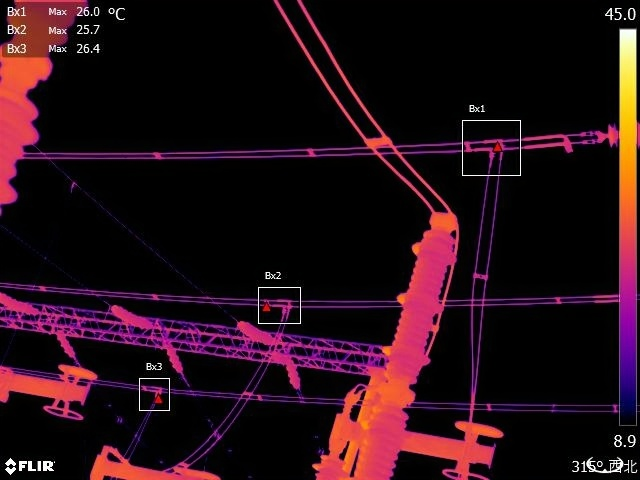clamp: (478, 135, 508, 168), (139, 384, 169, 410), (277, 294, 301, 317)
insulator: (111, 301, 161, 337), (235, 319, 277, 350), (161, 336, 190, 377), (281, 348, 303, 396), (1, 289, 36, 315), (53, 324, 76, 356)
post insulator: (356, 207, 463, 480)
switch: (335, 397, 502, 480), (1, 357, 104, 426)
